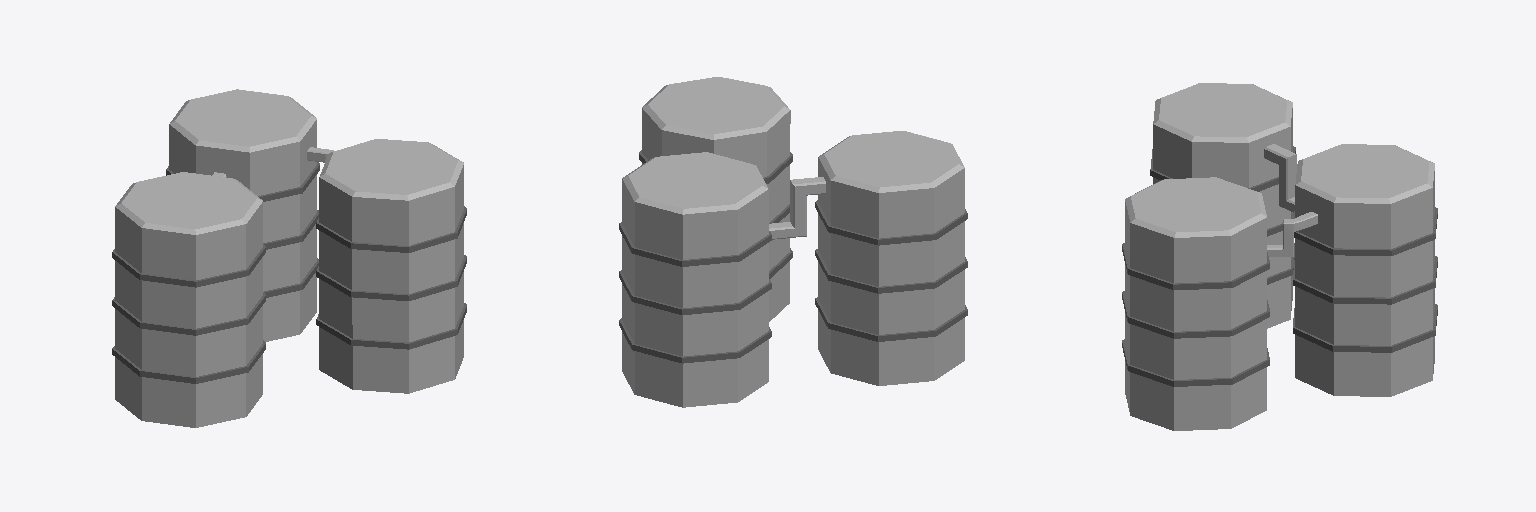
3 views of the same model, side by side, from view 1: azimuth 30°, elevation 25°; view 2: azimuth 150°, elevation 25°; view 3: azimuth 270°, elevation 25° (orthographic).
Parts seen in each view (by area): view 1: watery_Cylinder; view 2: watery_Cylinder; view 3: watery_Cylinder.
Part boxes in pixels (left/top/right/bottom): watery_Cylinder: left=112, top=89, right=466, bottom=427; watery_Cylinder: left=619, top=77, right=967, bottom=407; watery_Cylinder: left=1122, top=83, right=1437, bottom=430.
Size of the model in its own units: 5.86 by 3.52 by 5.07.
1 materials, 1 textured.